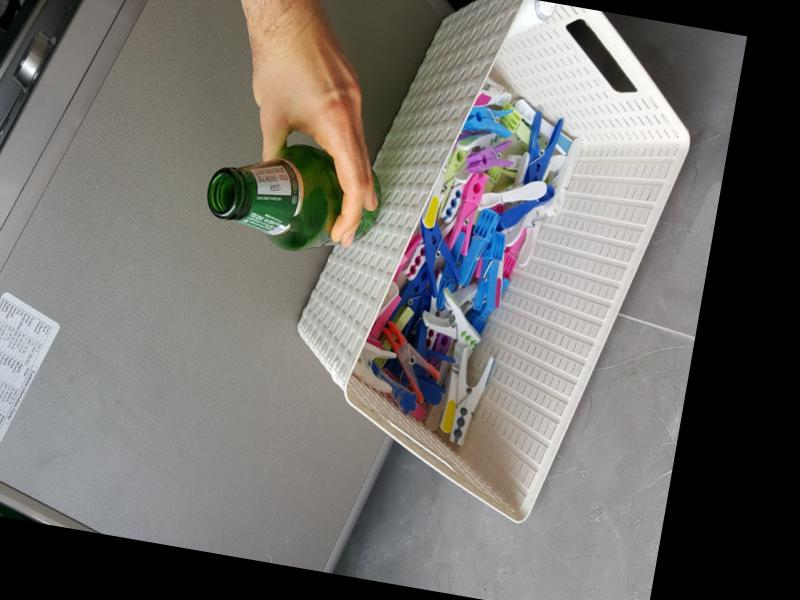Beer: (199, 130, 387, 264)
